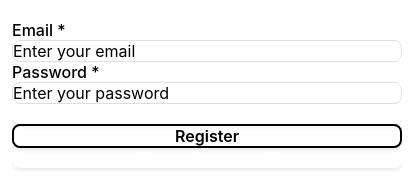
Scenario: LoginScreen › Form Validation › should show error when password is too short
Type "test@example.com" into the field with placeholder "Enter your email" at (207, 51), box [12,40,402,62]
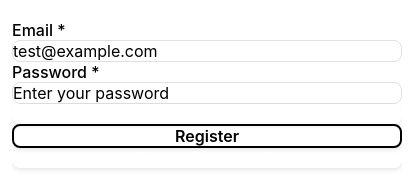
Type "12345" into the password field with placeholder "Enter your password" at (207, 93), box [12,82,402,104]
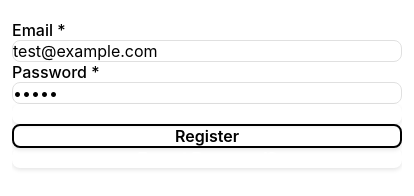
Click the text "Login" at (207, 114), box [186,104,228,124]
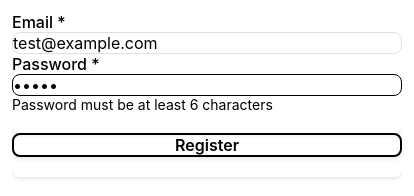
expect the text "Password must be at least 6 characters" is shown: met, box [12,96,273,112]
